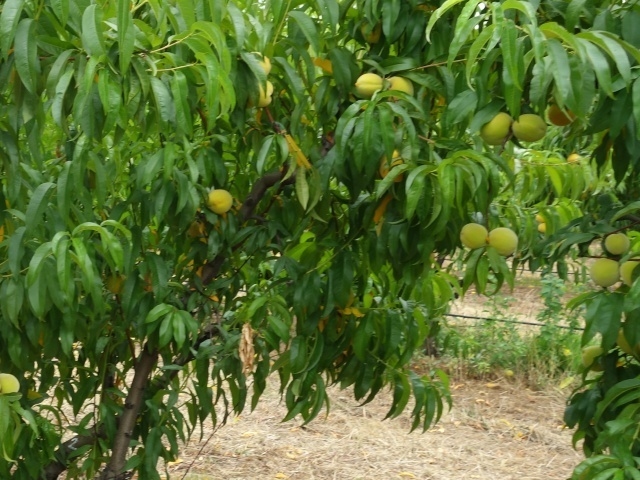peach: (482, 224, 523, 260), (508, 109, 549, 143), (456, 219, 493, 253), (588, 253, 623, 288), (383, 71, 417, 105), (480, 109, 514, 143), (376, 149, 406, 187), (579, 340, 610, 375), (602, 226, 632, 262), (204, 184, 235, 216), (353, 68, 384, 99), (614, 252, 639, 290), (251, 81, 278, 112), (1, 370, 25, 402)
